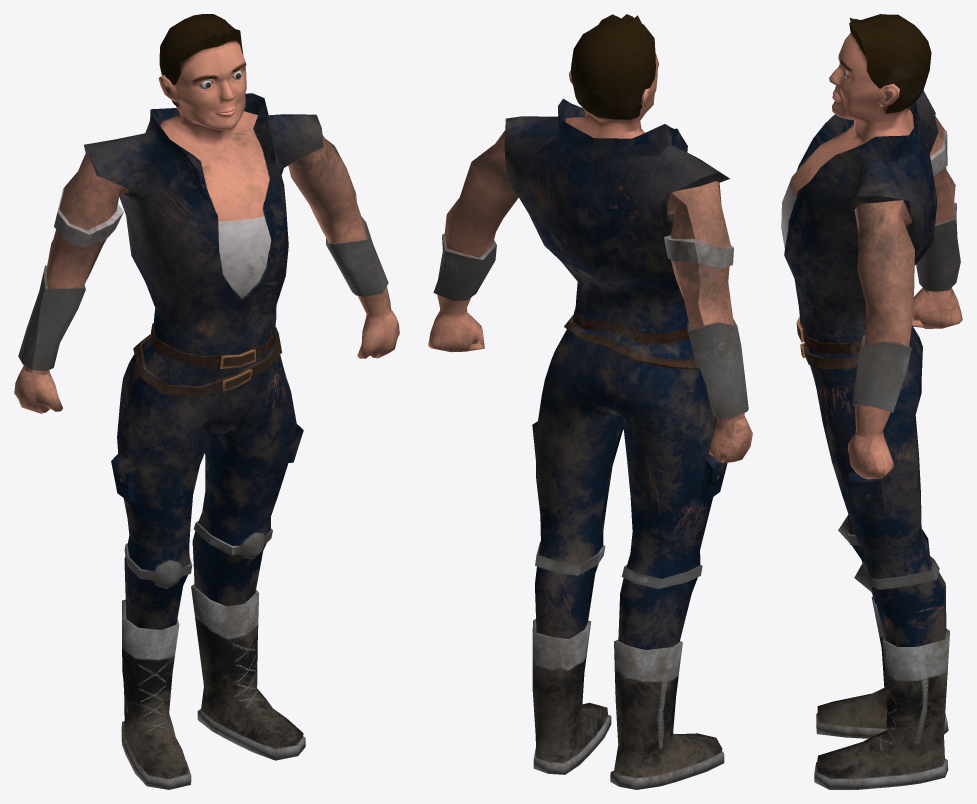
The model's file is Anim_ataque_d1_jugador.0034.obj.
The picture shows the model from 3 angles, left to right: view 1: azimuth 30°, elevation 25°; view 2: azimuth 150°, elevation 25°; view 3: azimuth 270°, elevation 25°; orthographic projection.
Parts seen in each view (by area): view 1: polySurface1; view 2: polySurface1; view 3: polySurface1.
Part boxes in pixels (box(x1,y1,x2,y2)): polySurface1: box(14, 14, 399, 789); polySurface1: box(428, 14, 752, 789); polySurface1: box(781, 14, 962, 789).
Size of the model in its own units: 4.79 by 9.67 by 2.15.
